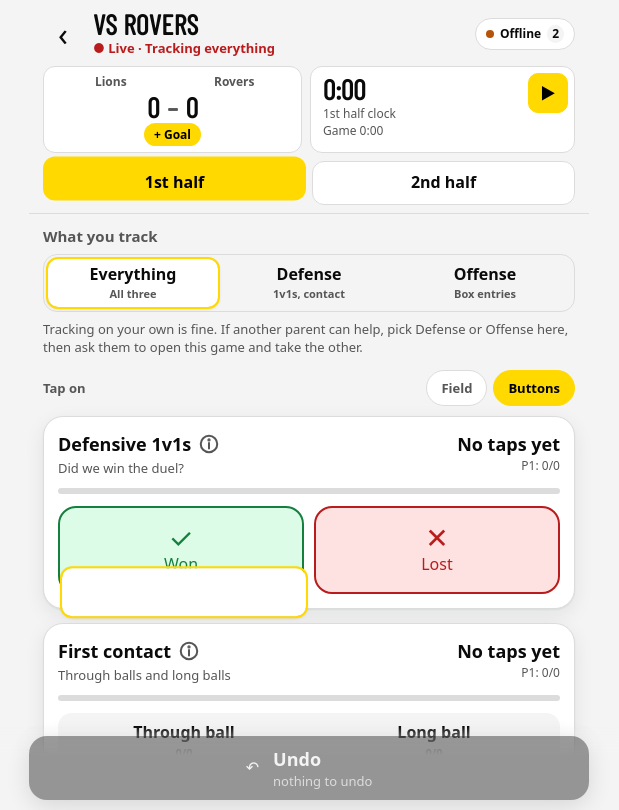
Test: TrackerPage › undoes the last event and individual events
expect the heading "vs Rovers" is shown: met, box left=93, top=7, right=198, bottom=41
Click the button with aria-label "Duel won" at (181, 550), box left=58, top=506, right=304, bottom=594
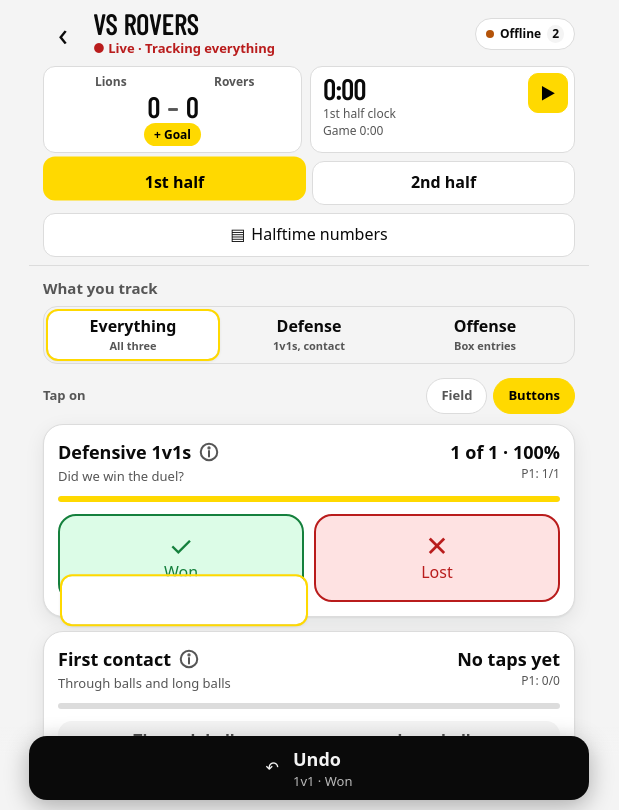
Click the button with aria-label "Duel lost" at (437, 558), box left=314, top=514, right=560, bottom=602
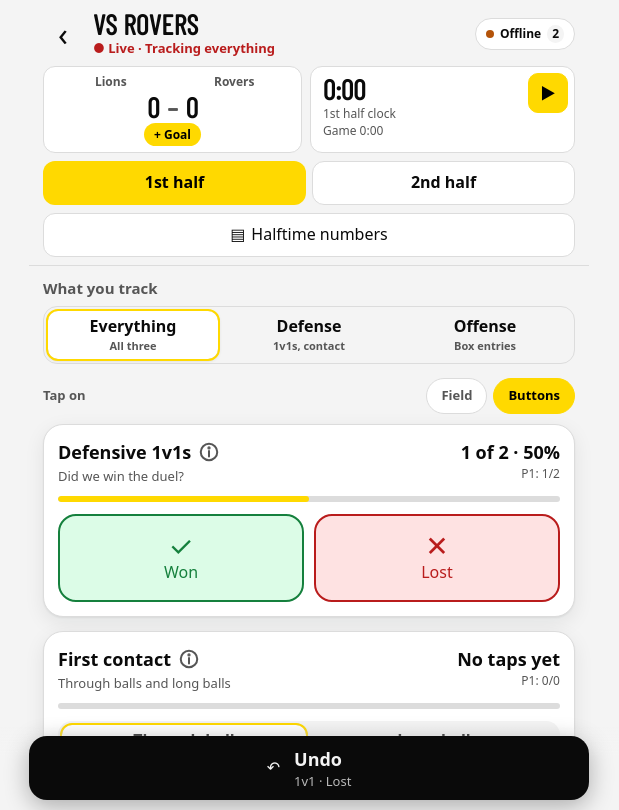
Click the button with aria-label "Undo last: 1v1 · Lost" at (309, 768), box left=29, top=736, right=589, bottom=800
(page scrolled)
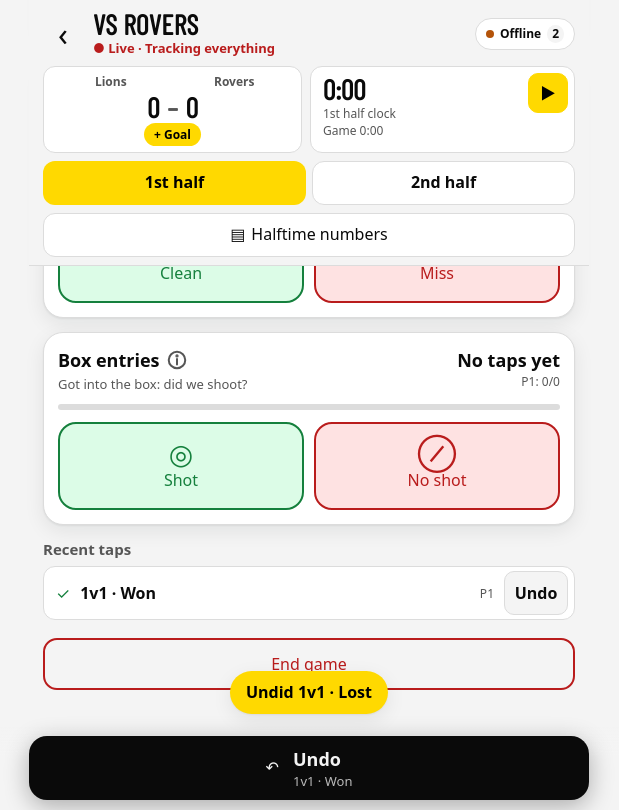
expect the text "Undid 1v1 · Lost" is shown: met, box left=230, top=671, right=388, bottom=714
Click the button with aria-label "Undo 1v1 · Won" at (536, 593), box left=504, top=571, right=568, bottom=615
(page scrolled)
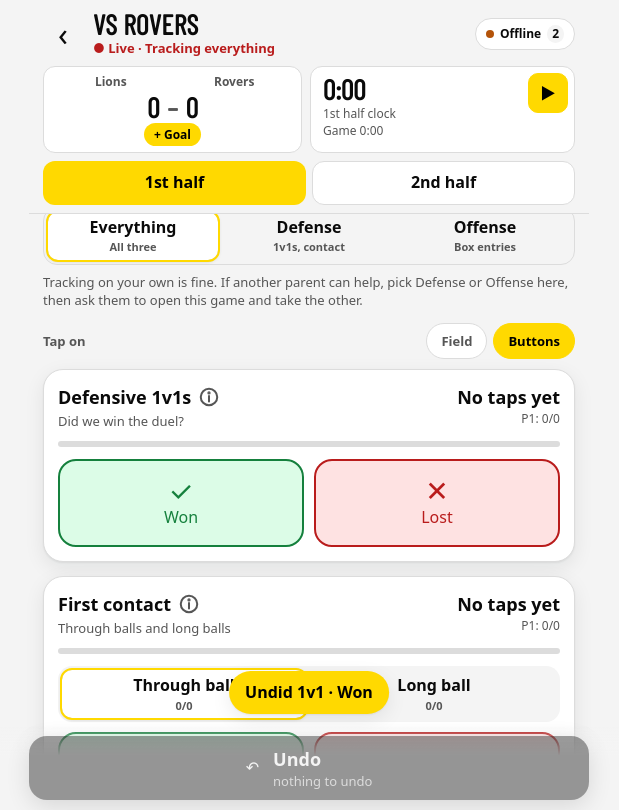
expect the message with test id "duel-tally" shows "No taps yet": met, box left=457, top=385, right=560, bottom=409
